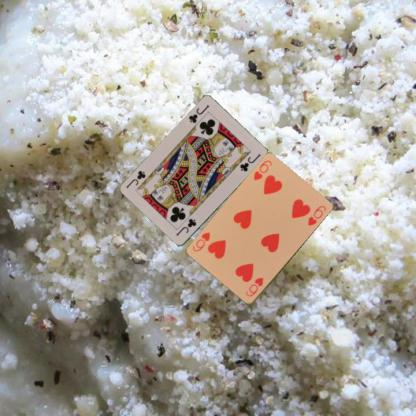6h: (251, 158, 273, 182), (242, 275, 264, 298)
Jc: (186, 102, 210, 125), (173, 216, 198, 238)
